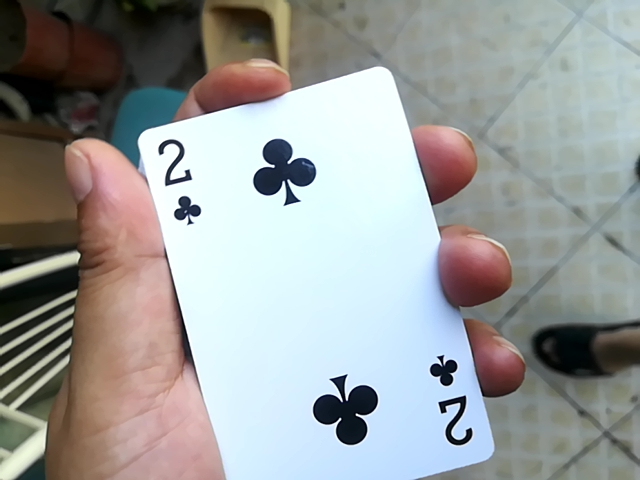mh 2: (124, 62, 464, 480)
